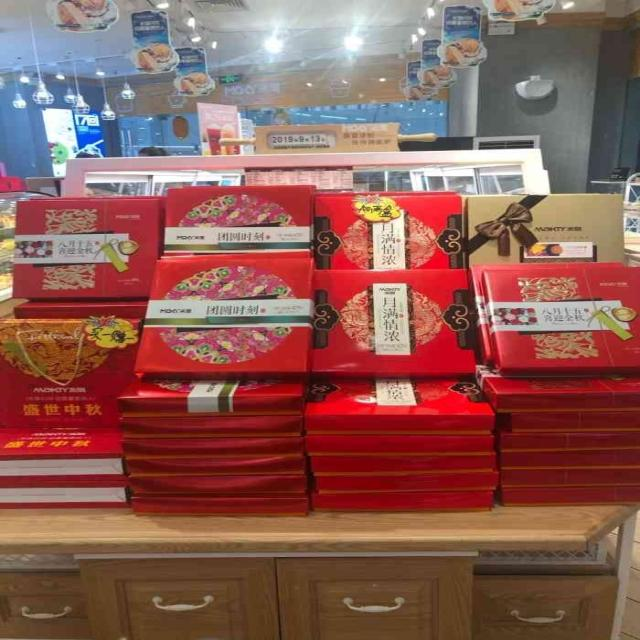box: (133, 259, 316, 380), (311, 270, 475, 379), (481, 271, 640, 374), (1, 315, 143, 427), (468, 261, 625, 362), (13, 199, 164, 300), (464, 193, 628, 267), (303, 377, 496, 435), (315, 195, 463, 269), (165, 188, 310, 257), (184, 185, 315, 251), (475, 364, 640, 412), (117, 379, 309, 418), (0, 427, 123, 481), (315, 460, 498, 494), (312, 486, 492, 511), (122, 437, 305, 460), (122, 415, 304, 438), (311, 455, 494, 477), (125, 455, 306, 477), (304, 436, 493, 456), (131, 496, 308, 517), (498, 425, 640, 451), (0, 481, 131, 508), (129, 475, 308, 494), (13, 298, 148, 320), (499, 449, 640, 469), (500, 469, 640, 488), (500, 487, 640, 506), (511, 412, 640, 431), (31, 195, 166, 211), (161, 252, 315, 259), (317, 191, 455, 196)
